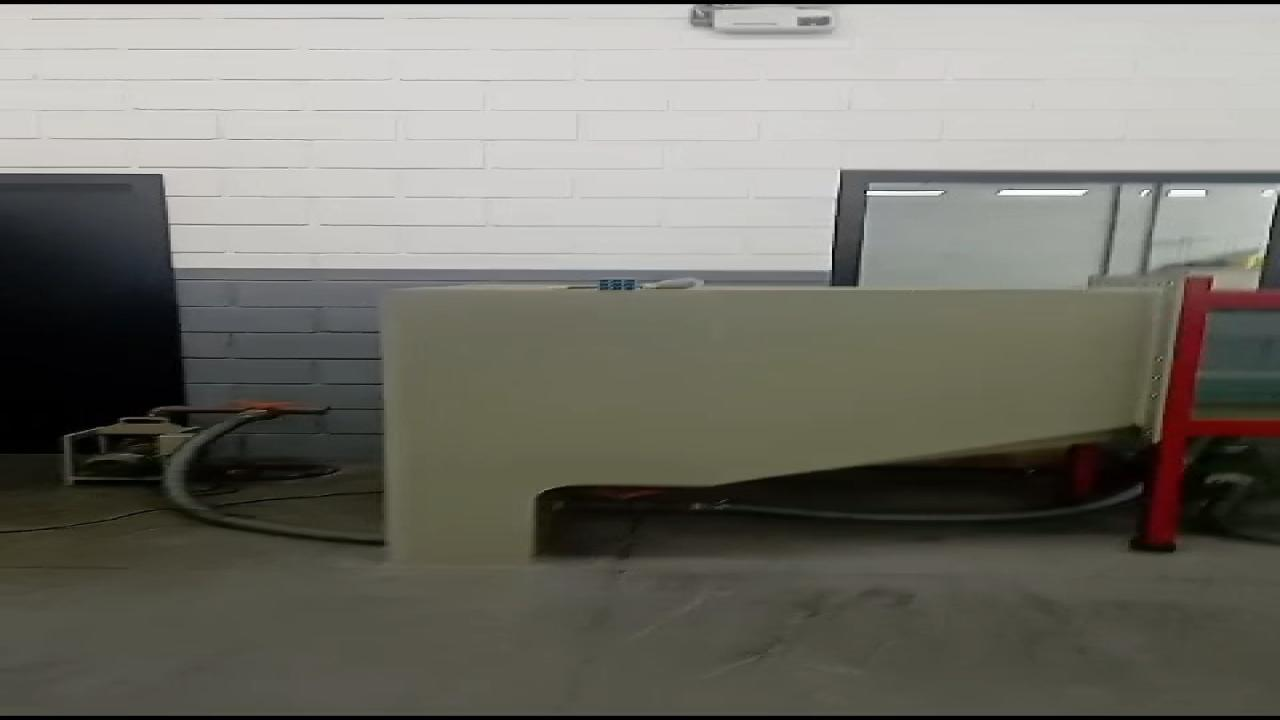Cube: (597, 279, 637, 290)
